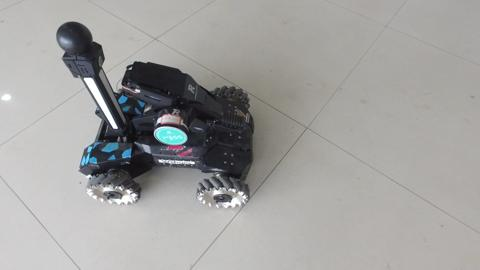chariot: (42, 49, 271, 214)
